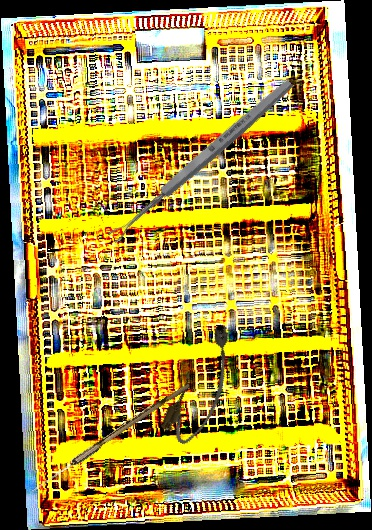Cannula: (156, 318, 251, 451)
Surgical Spoon: (106, 76, 296, 245), (30, 379, 191, 496)
